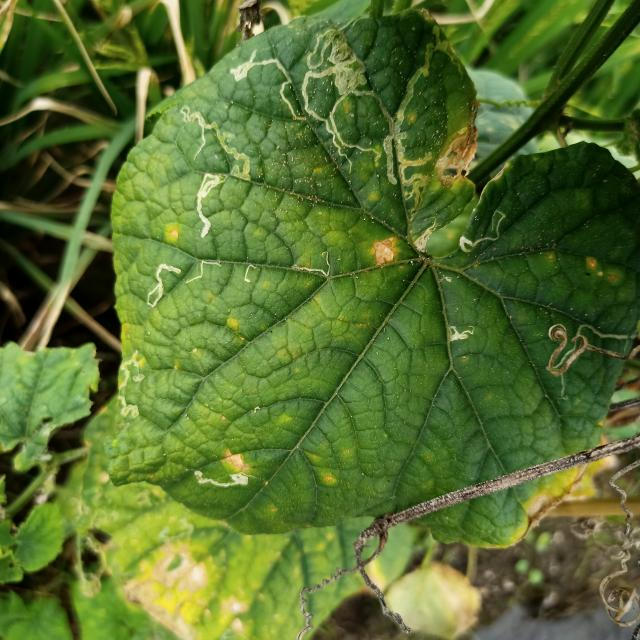disease_cucumber: (371, 234, 398, 268), (585, 258, 618, 282), (221, 449, 248, 474), (167, 227, 180, 244)
